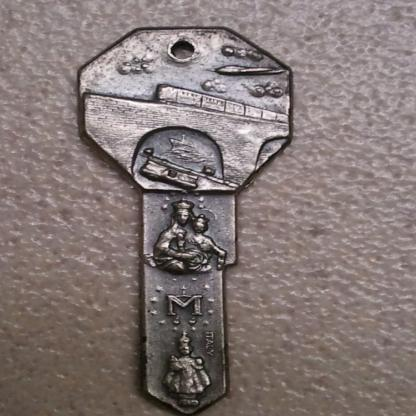key: (76, 25, 270, 410)
